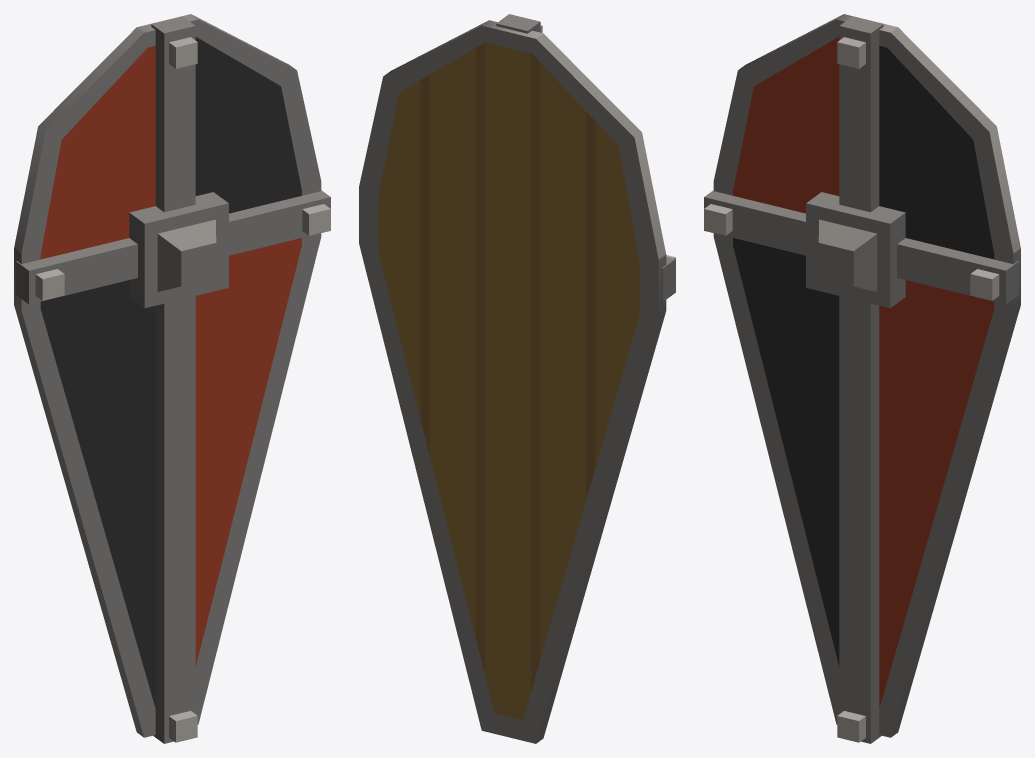
File: SF_Wep_KiteShield_Pattern_04.fbx
3 views of the same model, side by side, from view 1: azimuth 30°, elevation 25°; view 2: azimuth 150°, elevation 25°; view 3: azimuth 330°, elevation 25° (orthographic).
Parts seen in each view (by area): view 1: SF_Wep_KiteShield_Pattern_04; view 2: SF_Wep_KiteShield_Pattern_04; view 3: SF_Wep_KiteShield_Pattern_04.
Part boxes in pixels (left/top/right/bottom): SF_Wep_KiteShield_Pattern_04: left=14, top=14, right=330, bottom=743; SF_Wep_KiteShield_Pattern_04: left=359, top=14, right=675, bottom=743; SF_Wep_KiteShield_Pattern_04: left=704, top=14, right=1020, bottom=743.
Size of the model in its own units: 0.9946 by 2.24 by 0.1992.
